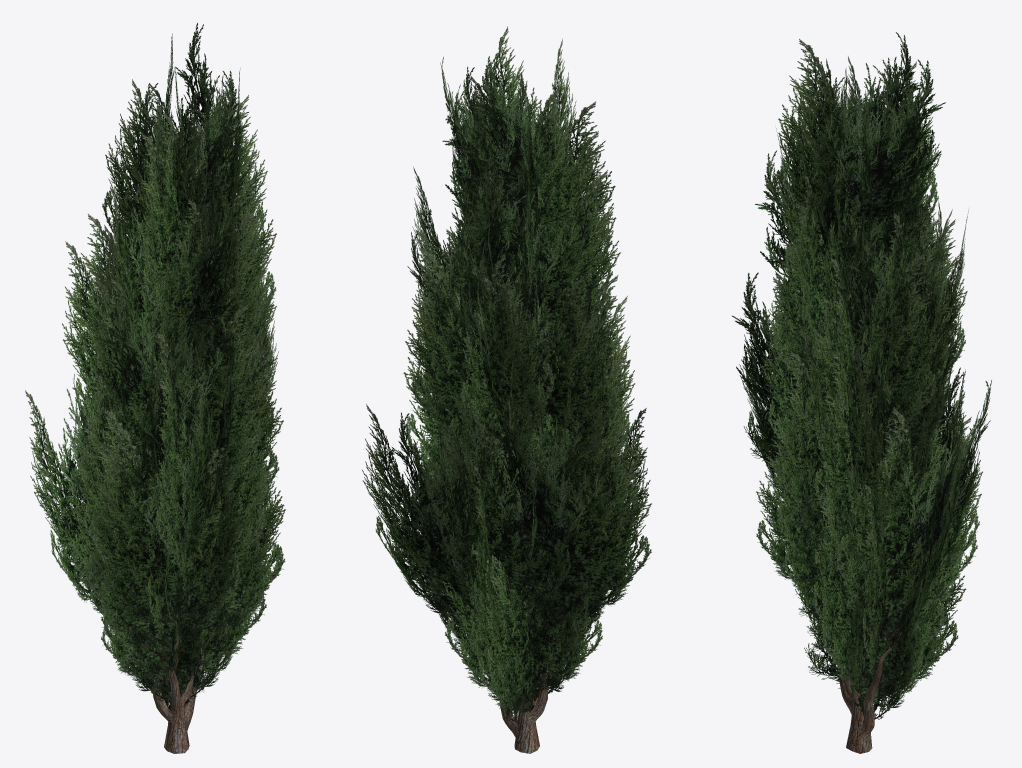
The picture shows the model from 3 angles, left to right: view 1: azimuth 30°, elevation 25°; view 2: azimuth 150°, elevation 25°; view 3: azimuth 270°, elevation 25°; orthographic projection. The views are drawn at different scales.
Visible parts, largest first — view 1: Tuya_Small; view 2: Tuya_Small; view 3: Tuya_Small.
Part boxes in pixels (left/top/right/bottom): Tuya_Small: left=25, top=23, right=285, bottom=753; Tuya_Small: left=362, top=26, right=651, bottom=753; Tuya_Small: left=732, top=32, right=991, bottom=753.
Bounding box in the file's own units: 322 × 720 × 270.
Materials: 2 (2 with a texture image).
